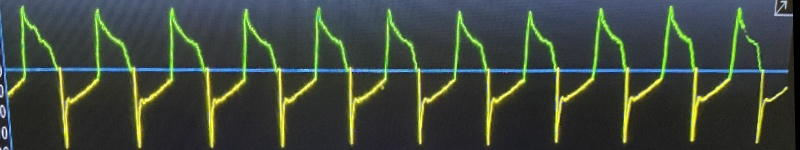peepi: (0, 0, 773, 150)
